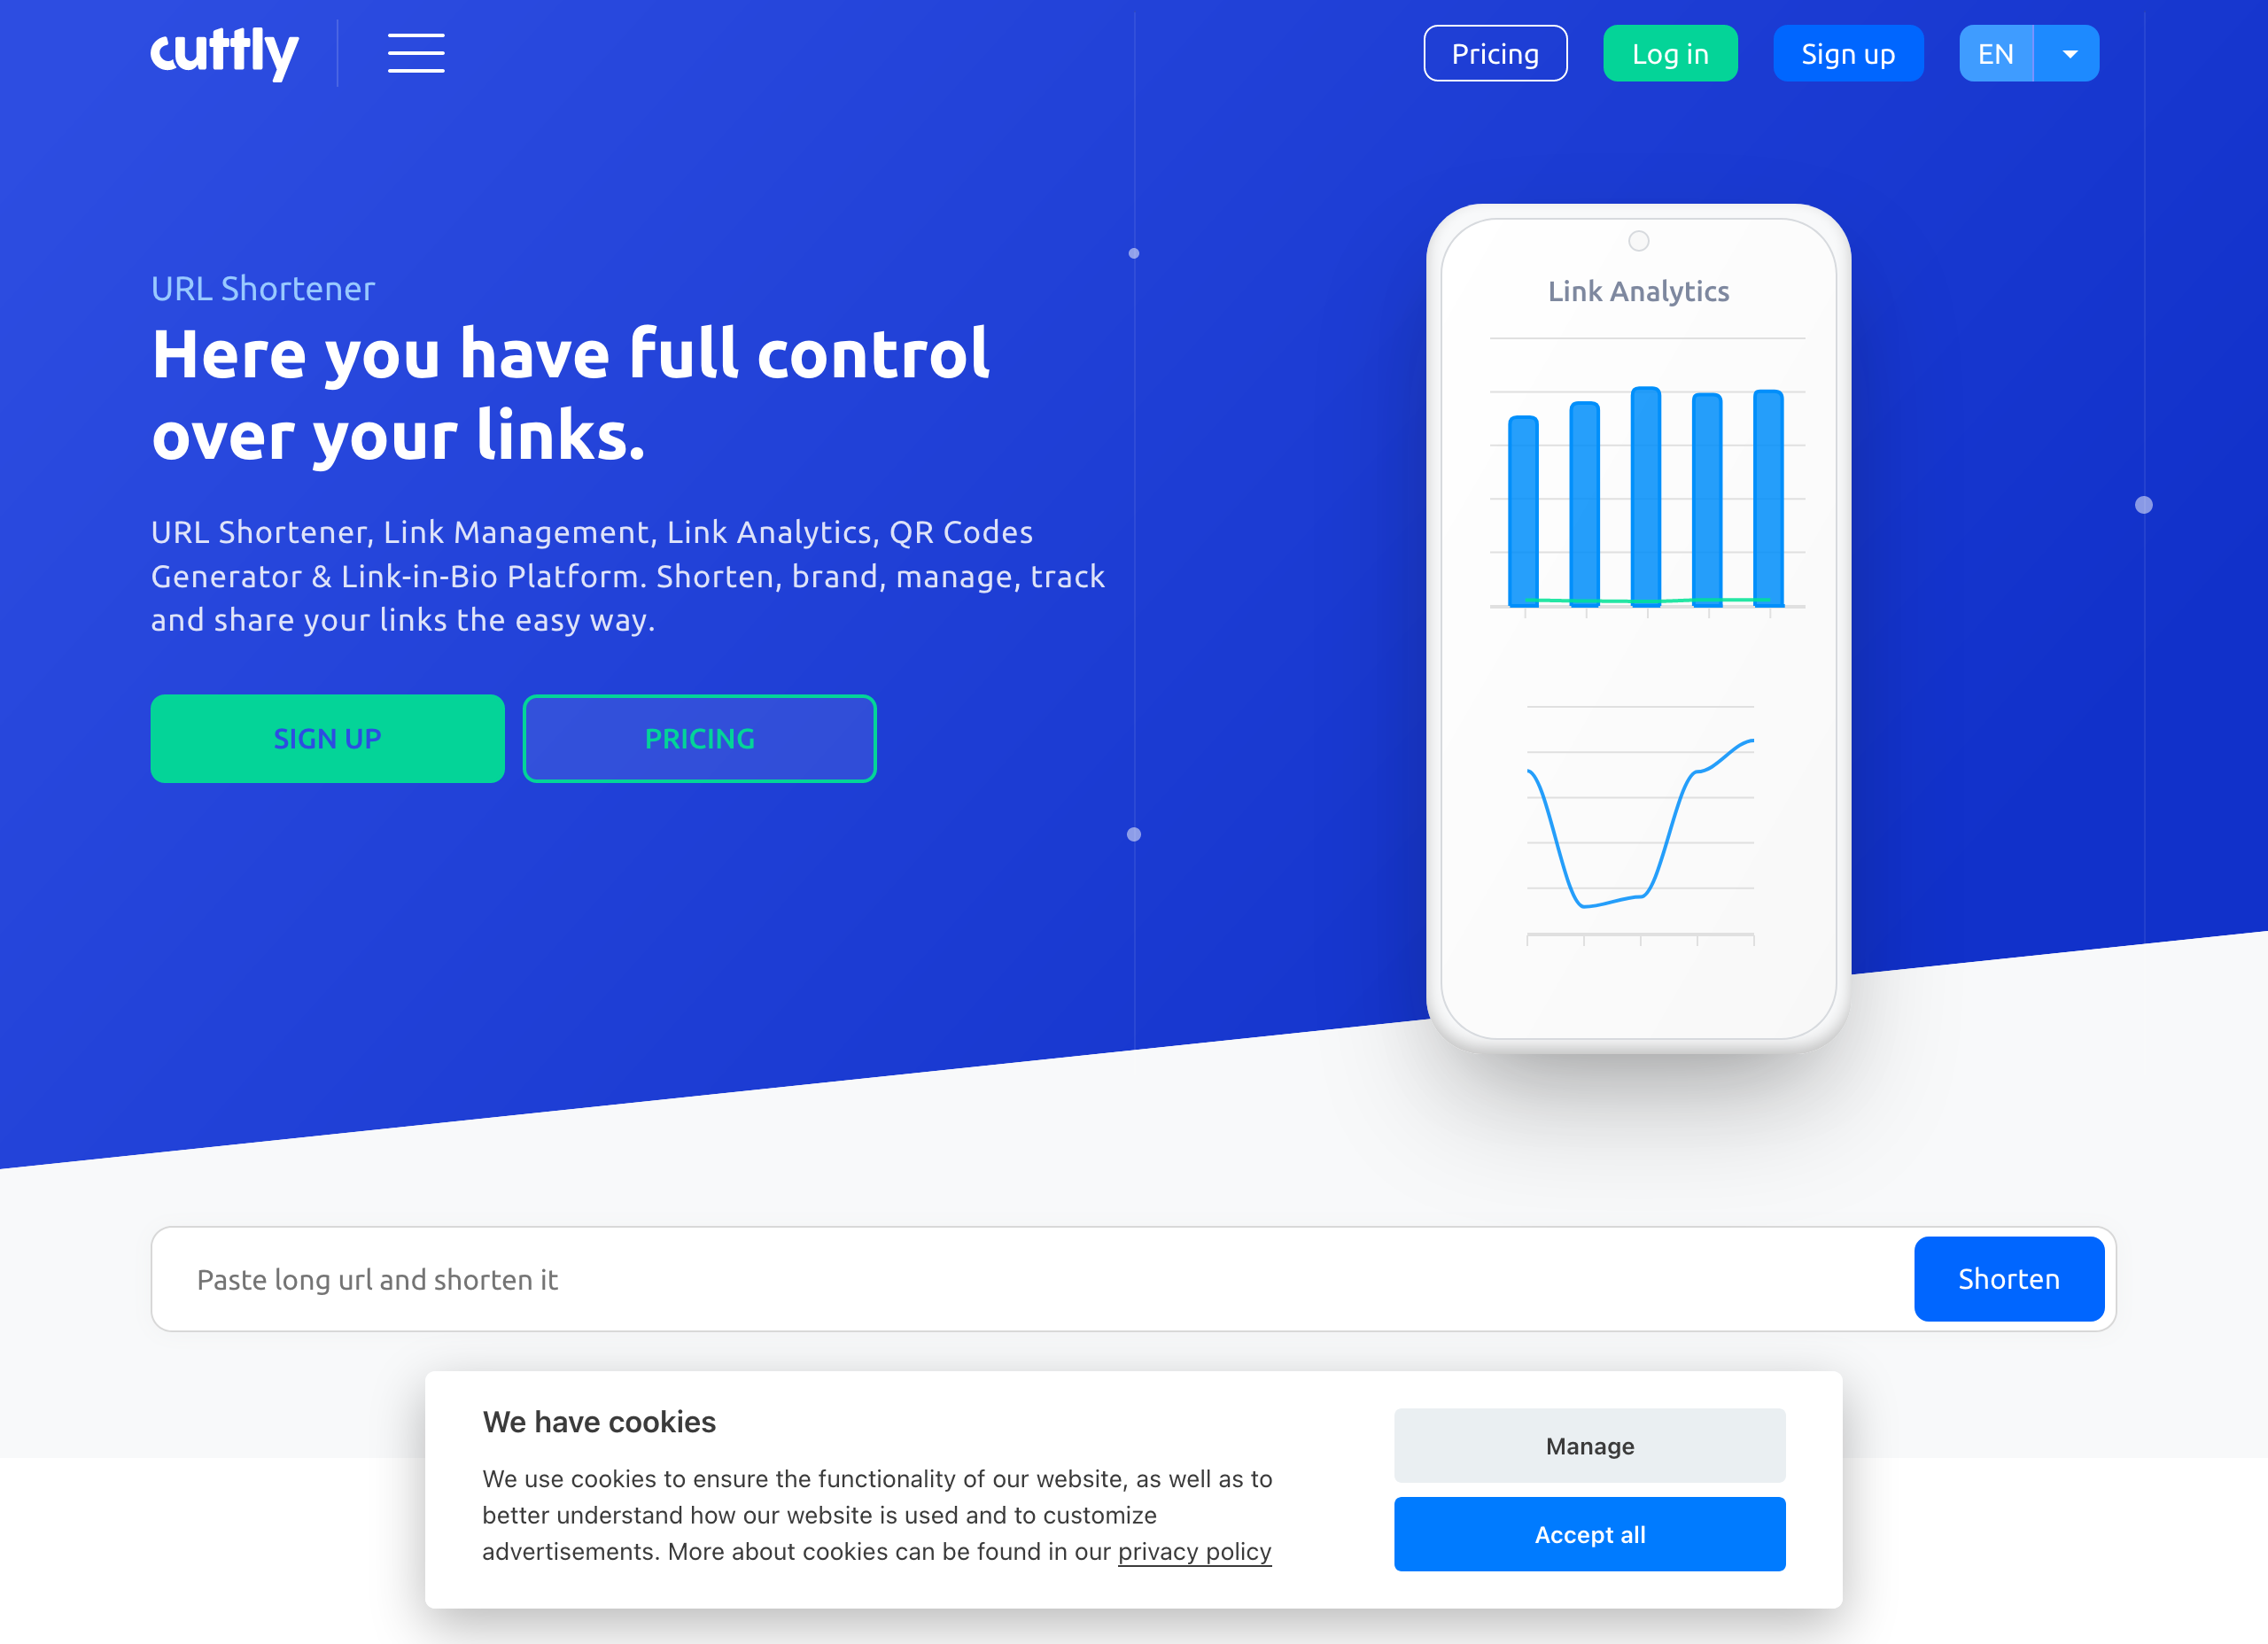Login: (1594, 12, 1747, 95)
